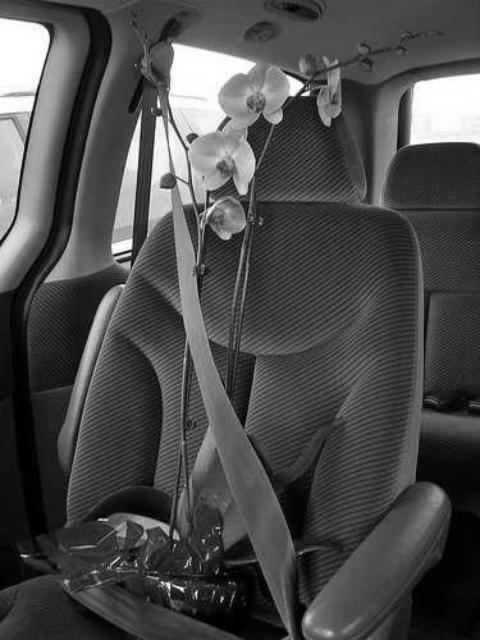Seatbelt: (64, 36, 298, 640)
